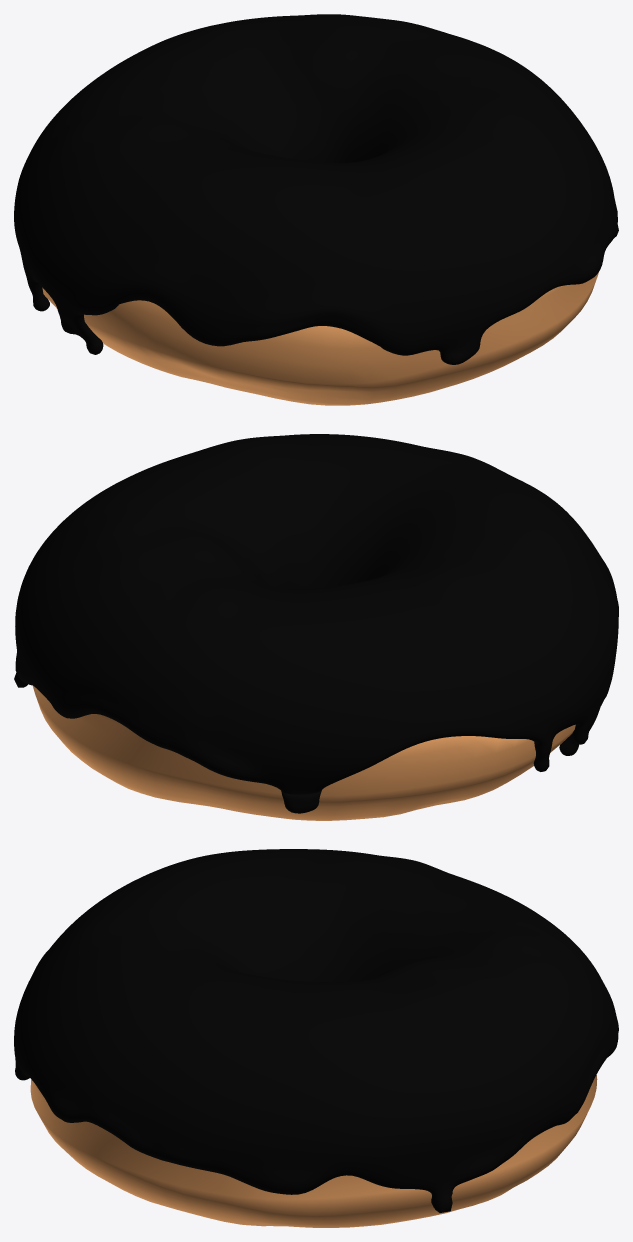
The model's file is donut.gltf.
3 renders of one model, top to bottom at view 1: azimuth 30°, elevation 25°; view 2: azimuth 150°, elevation 25°; view 3: azimuth 270°, elevation 25°, orthographic. The views are drawn at different scales.
Visible parts, largest first — view 1: icing, donut; view 2: icing, donut; view 3: icing, donut.
Boxes of the visible parts, bbox=[...] form: icing: bbox=[14, 14, 618, 364]; donut: bbox=[42, 272, 598, 405]; icing: bbox=[14, 434, 618, 813]; donut: bbox=[32, 685, 575, 820]; icing: bbox=[14, 849, 618, 1212]; donut: bbox=[30, 1075, 597, 1227].
Size of what is drawn, in the model's own units: 0.0988 by 0.0405 by 0.0996.
